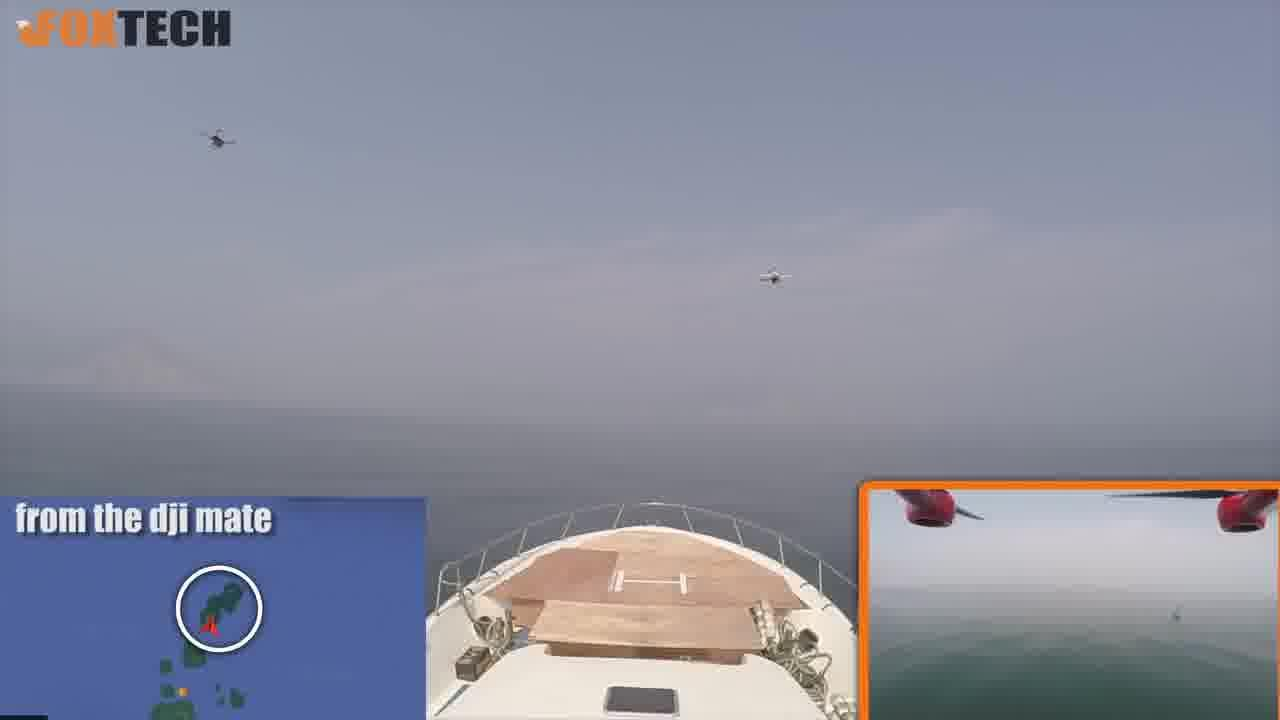drone: (194, 126, 238, 153), (756, 266, 792, 287)
